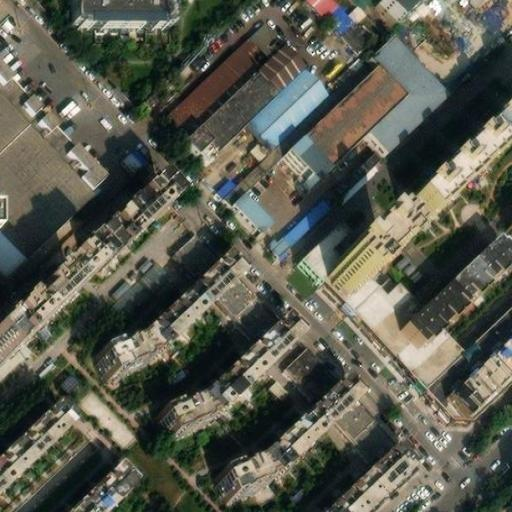building: (94, 250, 235, 372), (0, 90, 94, 270), (219, 373, 358, 491), (389, 103, 512, 236), (162, 316, 298, 432), (281, 64, 401, 182), (190, 34, 310, 151), (343, 268, 463, 383), (399, 234, 512, 344), (165, 27, 273, 132), (367, 28, 454, 147), (425, 302, 512, 412), (79, 173, 172, 263), (338, 392, 421, 480), (248, 60, 331, 142), (454, 328, 512, 406), (317, 457, 397, 512), (214, 270, 280, 336), (324, 229, 391, 294), (0, 283, 56, 358), (236, 128, 298, 187), (303, 213, 362, 273), (272, 193, 332, 250), (59, 467, 126, 512), (286, 339, 340, 394), (232, 187, 272, 228), (218, 172, 244, 198), (347, 0, 366, 17)
